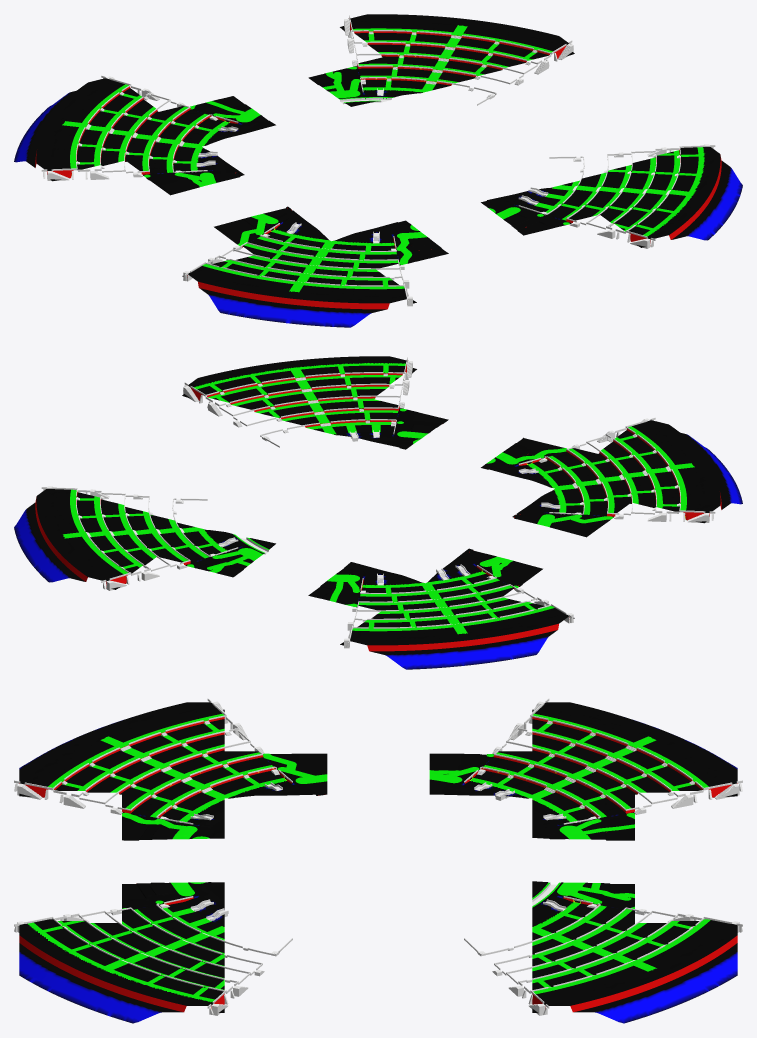
The model's file is concordia_terrain_moradas.glb.
3 renders of one model, top to bottom at view 1: azimuth 30°, elevation 25°; view 2: azimuth 150°, elevation 25°; view 3: azimuth 270°, elevation 25°, orthographic. The views are drawn at different scales.
Parts seen in each view (by area): view 1: TRN_City_Chunk_6_5_LOD0, TRN_City_Chunk_10_10_LOD0, TRN_City_Chunk_5_6_LOD0, TRN_City_Chunk_10_5_LOD0, TRN_City_Chunk_6_10_LOD0, TRN_City_Chunk_5_10_LOD0, TRN_City_Chunk_7_6_LOD0, TRN_City_Chunk_11_6_LOD0, TRN_City_Chunk_9_10_LOD0, TRN_City_Chunk_6_7_LOD0, TRN_City_Chunk_7_10_LOD0, TRN_City_Chunk_6_9_LOD0 (+17 smaller); view 2: TRN_City_Chunk_6_11_LOD0, TRN_City_Chunk_10_6_LOD0, TRN_City_Chunk_5_10_LOD0, TRN_City_Chunk_10_11_LOD0, TRN_City_Chunk_6_6_LOD0, TRN_City_Chunk_5_6_LOD0, TRN_City_Chunk_7_10_LOD0, TRN_City_Chunk_11_10_LOD0, TRN_City_Chunk_6_7_LOD0, TRN_City_Chunk_9_10_LOD0, TRN_City_Chunk_7_6_LOD0, TRN_City_Chunk_9_6_LOD0 (+17 smaller); view 3: TRN_City_Chunk_11_10_LOD0, TRN_City_Chunk_11_6_LOD0, TRN_City_Chunk_6_10_LOD0, TRN_City_Chunk_6_6_LOD0, TRN_City_Chunk_10_5_LOD0, TRN_City_Chunk_10_11_LOD0, TRN_City_Chunk_6_7_LOD0, TRN_City_Chunk_9_10_LOD0, TRN_City_Chunk_7_10_LOD0, TRN_City_Chunk_7_6_LOD0, TRN_City_Chunk_9_6_LOD0, TRN_City_Chunk_6_9_LOD0 (+20 smaller).
Part boxes in pixels (x1,y1,x2,y2): TRN_City_Chunk_6_5_LOD0: (300,269,416,327); TRN_City_Chunk_10_10_LOD0: (383,34,499,91); TRN_City_Chunk_5_6_LOD0: (182,255,298,314); TRN_City_Chunk_10_5_LOD0: (599,192,712,247); TRN_City_Chunk_6_10_LOD0: (84,111,201,161); TRN_City_Chunk_5_10_LOD0: (14,125,126,181); TRN_City_Chunk_7_6_LOD0: (331,220,448,268); TRN_City_Chunk_11_6_LOD0: (630,146,742,191); TRN_City_Chunk_9_10_LOD0: (308,57,425,106); TRN_City_Chunk_6_7_LOD0: (214,206,330,255); TRN_City_Chunk_7_10_LOD0: (159,96,275,146); TRN_City_Chunk_6_9_LOD0: (127,146,244,195); TRN_City_Chunk_6_11_LOD0: (340,611,456,669); TRN_City_Chunk_10_6_LOD0: (257,376,373,433); TRN_City_Chunk_5_10_LOD0: (458,597,574,656); TRN_City_Chunk_10_11_LOD0: (44,534,157,589); TRN_City_Chunk_6_6_LOD0: (555,453,672,503); TRN_City_Chunk_5_6_LOD0: (630,467,742,523); TRN_City_Chunk_7_10_LOD0: (308,562,425,610); TRN_City_Chunk_11_10_LOD0: (14,488,126,533); TRN_City_Chunk_6_7_LOD0: (512,488,629,537); TRN_City_Chunk_9_10_LOD0: (159,528,275,577); TRN_City_Chunk_7_6_LOD0: (481,437,597,488); TRN_City_Chunk_9_6_LOD0: (331,399,448,449); TRN_City_Chunk_11_10_LOD0: (532,962,634,1023); TRN_City_Chunk_11_6_LOD0: (122,962,224,1023); TRN_City_Chunk_6_10_LOD0: (532,745,634,798); TRN_City_Chunk_6_6_LOD0: (122,745,224,798); TRN_City_Chunk_10_5_LOD0: (19,919,121,979); TRN_City_Chunk_10_11_LOD0: (635,919,737,979); TRN_City_Chunk_6_7_LOD0: (224,751,327,798); TRN_City_Chunk_9_10_LOD0: (532,881,634,928); TRN_City_Chunk_7_10_LOD0: (532,794,634,840); TRN_City_Chunk_7_6_LOD0: (122,794,224,840); TRN_City_Chunk_9_6_LOD0: (122,882,224,928); TRN_City_Chunk_6_9_LOD0: (429,751,532,798).
Size of what is drawn, in the model's own units: 355 by 10.4 by 355.
8 materials, 8 textured.
